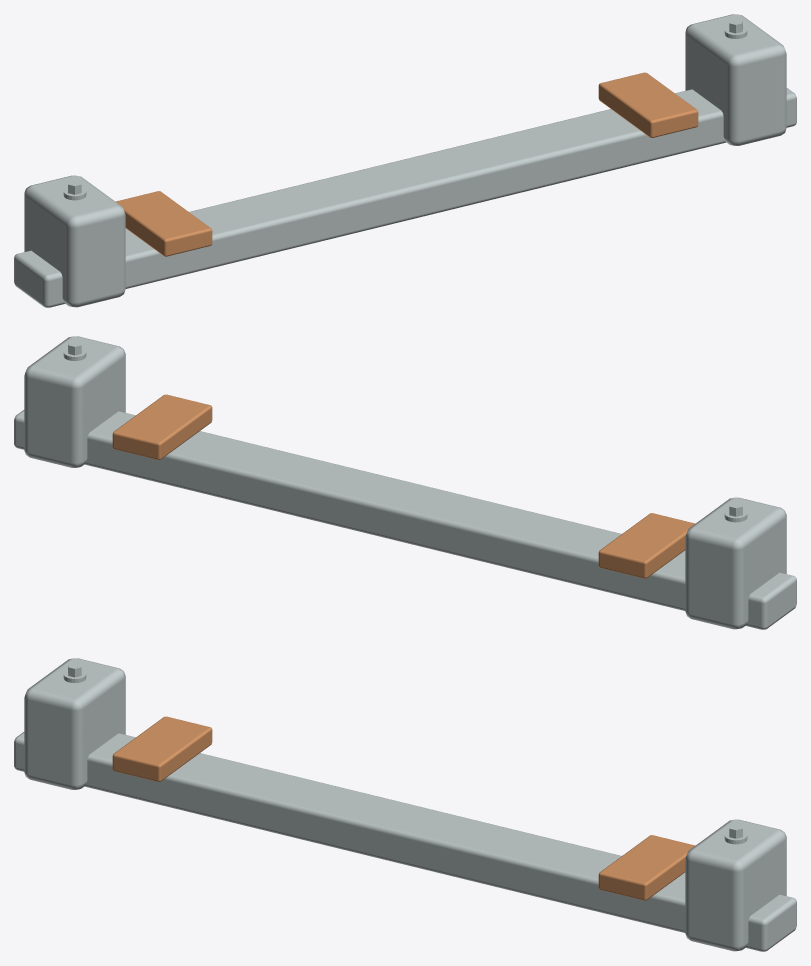
The model's file is generation-ship-hydroponics-generation-ship-hydroponic-df2d883b__31480.glb.
The picture shows the model from 3 angles, top to bottom: view 1: azimuth 30°, elevation 25°; view 2: azimuth 150°, elevation 25°; view 3: azimuth 330°, elevation 25°; orthographic projection.
Parts seen in each view (by area): view 1: generation-ship-hydroponics-light-suspension-rail; view 2: generation-ship-hydroponics-light-suspension-rail; view 3: generation-ship-hydroponics-light-suspension-rail.
Boxes of the visible parts, x1,y1,x2,y2 form: generation-ship-hydroponics-light-suspension-rail: (14, 14, 796, 307); generation-ship-hydroponics-light-suspension-rail: (14, 336, 796, 629); generation-ship-hydroponics-light-suspension-rail: (14, 658, 796, 951).
Bounding box in the file's own units: 1.55 × 0.2049 × 0.19.
